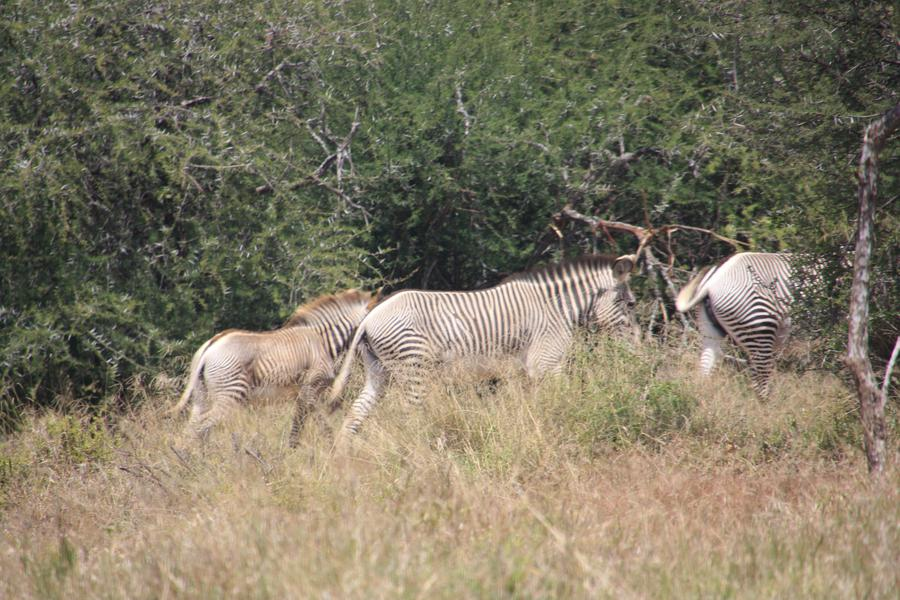zebra_grevys: (362, 276, 578, 367)
